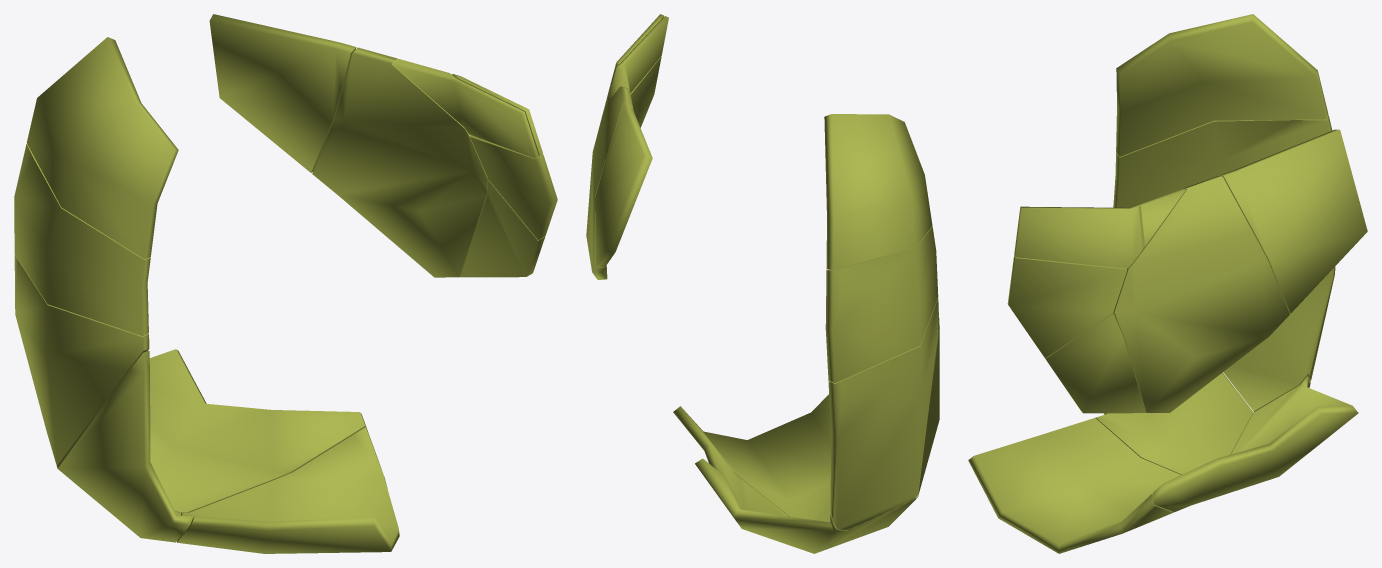
Rendered from Plaque_17.fbx.
3 views of the same model, side by side, from view 1: azimuth 30°, elevation 25°; view 2: azimuth 150°, elevation 25°; view 3: azimuth 270°, elevation 25° (orthographic). The views are drawn at different scales.
Visible parts, largest first — view 1: tooth_u.044_cell.003, tooth_u.043_cell.003, tooth_u.043_cell.002, tooth_u.043_cell, tooth_u.044_cell.005, tooth_u.043_cell.001, tooth_u.043_cell.005, tooth_u.043_cell.004, tooth_u.044_cell.004, tooth_u.044_cell, tooth_u.044_cell.001; view 2: tooth_u.043_cell.005, tooth_u.043_cell.003, tooth_u.043_cell.001, tooth_u.043_cell, tooth_u.043_cell.002, tooth_u.044_cell.005, tooth_u.044_cell.003, tooth_u.043_cell.004, tooth_u.044_cell.004, tooth_u.044_cell.001, tooth_u.044_cell.002; view 3: tooth_u.044_cell.003, tooth_u.043_cell.003, tooth_u.043_cell, tooth_u.044_cell.005, tooth_u.043_cell.002, tooth_u.043_cell.001, tooth_u.043_cell.004, tooth_u.044_cell.001, tooth_u.044_cell.002, tooth_u.043_cell.005, tooth_u.044_cell, tooth_u.044_cell.004.
Boxes of the visible parts, x1,y1,x2,y2 form: tooth_u.044_cell.003: [312, 47, 488, 277]; tooth_u.043_cell.003: [26, 37, 178, 259]; tooth_u.043_cell.002: [149, 349, 368, 514]; tooth_u.043_cell: [177, 427, 399, 553]; tooth_u.044_cell.005: [209, 14, 356, 172]; tooth_u.043_cell.001: [14, 144, 150, 336]; tooth_u.043_cell.005: [14, 255, 149, 467]; tooth_u.043_cell.004: [57, 350, 193, 542]; tooth_u.044_cell.004: [392, 59, 538, 158]; tooth_u.044_cell: [460, 180, 545, 277]; tooth_u.044_cell.001: [470, 135, 557, 239]; tooth_u.043_cell.005: [828, 298, 938, 530]; tooth_u.043_cell.003: [824, 114, 932, 269]; tooth_u.043_cell.001: [825, 227, 938, 382]; tooth_u.043_cell: [687, 394, 831, 522]; tooth_u.043_cell.002: [673, 406, 847, 553]; tooth_u.044_cell.005: [595, 102, 652, 267]; tooth_u.044_cell.003: [586, 86, 632, 279]; tooth_u.043_cell.004: [826, 312, 939, 549]; tooth_u.044_cell.004: [607, 16, 668, 102]; tooth_u.044_cell.001: [630, 56, 661, 127]; tooth_u.044_cell.002: [604, 14, 664, 107]; tooth_u.044_cell.003: [1113, 175, 1289, 412]; tooth_u.043_cell.003: [1116, 14, 1328, 156]; tooth_u.043_cell: [968, 418, 1180, 553]; tooth_u.044_cell.005: [1220, 129, 1367, 313]; tooth_u.043_cell.002: [1153, 376, 1358, 512]; tooth_u.043_cell.001: [1113, 114, 1332, 207]; tooth_u.043_cell.004: [1095, 372, 1253, 474]; tooth_u.044_cell.001: [1007, 255, 1127, 358]; tooth_u.044_cell.002: [1015, 206, 1142, 268]; tooth_u.043_cell.005: [1223, 266, 1335, 411]; tooth_u.044_cell: [1045, 313, 1145, 413]; tooth_u.044_cell.004: [1014, 188, 1185, 255].
Size of the model in its own units: 94.44 by 105 by 82.49.
